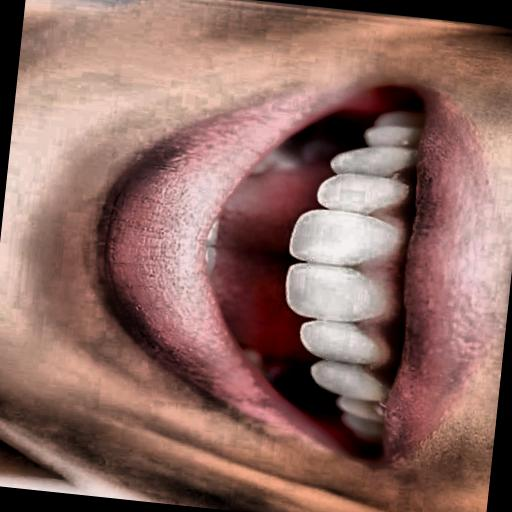Healthy: (85, 56, 470, 480)
